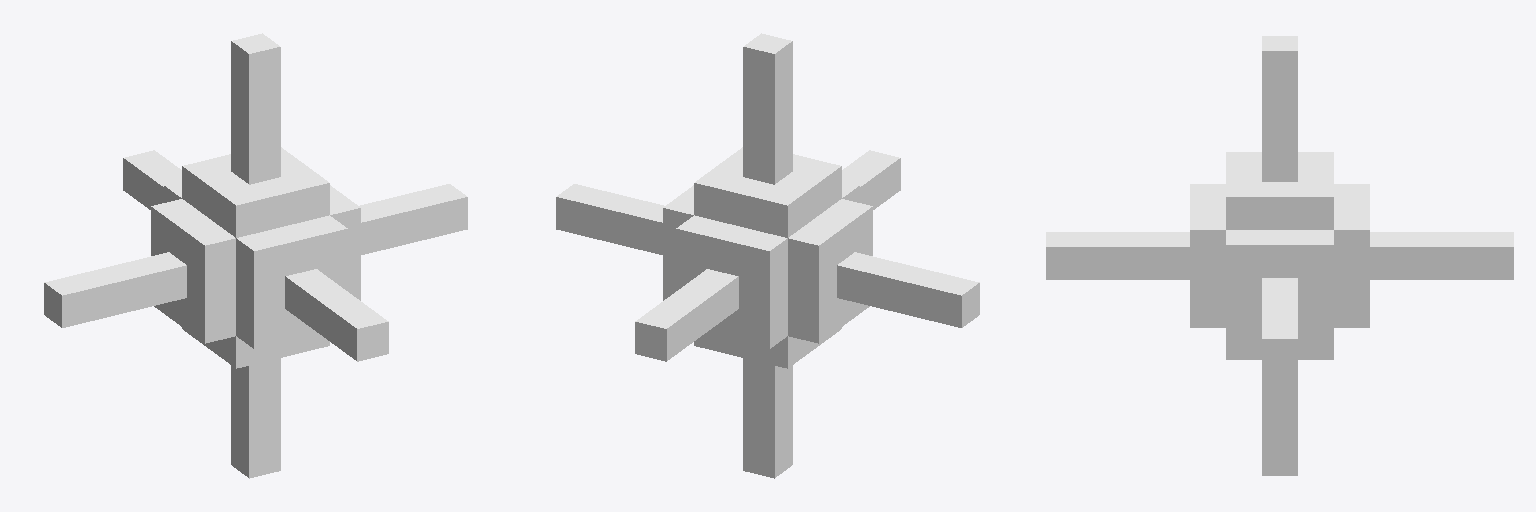
The model's file is synapse_enemy1.obj.
3 renders of one model, left to right at view 1: azimuth 30°, elevation 25°; view 2: azimuth 150°, elevation 25°; view 3: azimuth 270°, elevation 25°, orthographic.
Parts seen in each view (by area): view 1: object 1; view 2: object 1; view 3: object 1.
Part boxes in pixels (x1,y1,x2,y2): object 1: (44,33,467,478); object 1: (556,33,979,478); object 1: (1046,36,1513,475).
Size of the model in its own units: 1.3 by 1.3 by 1.3.